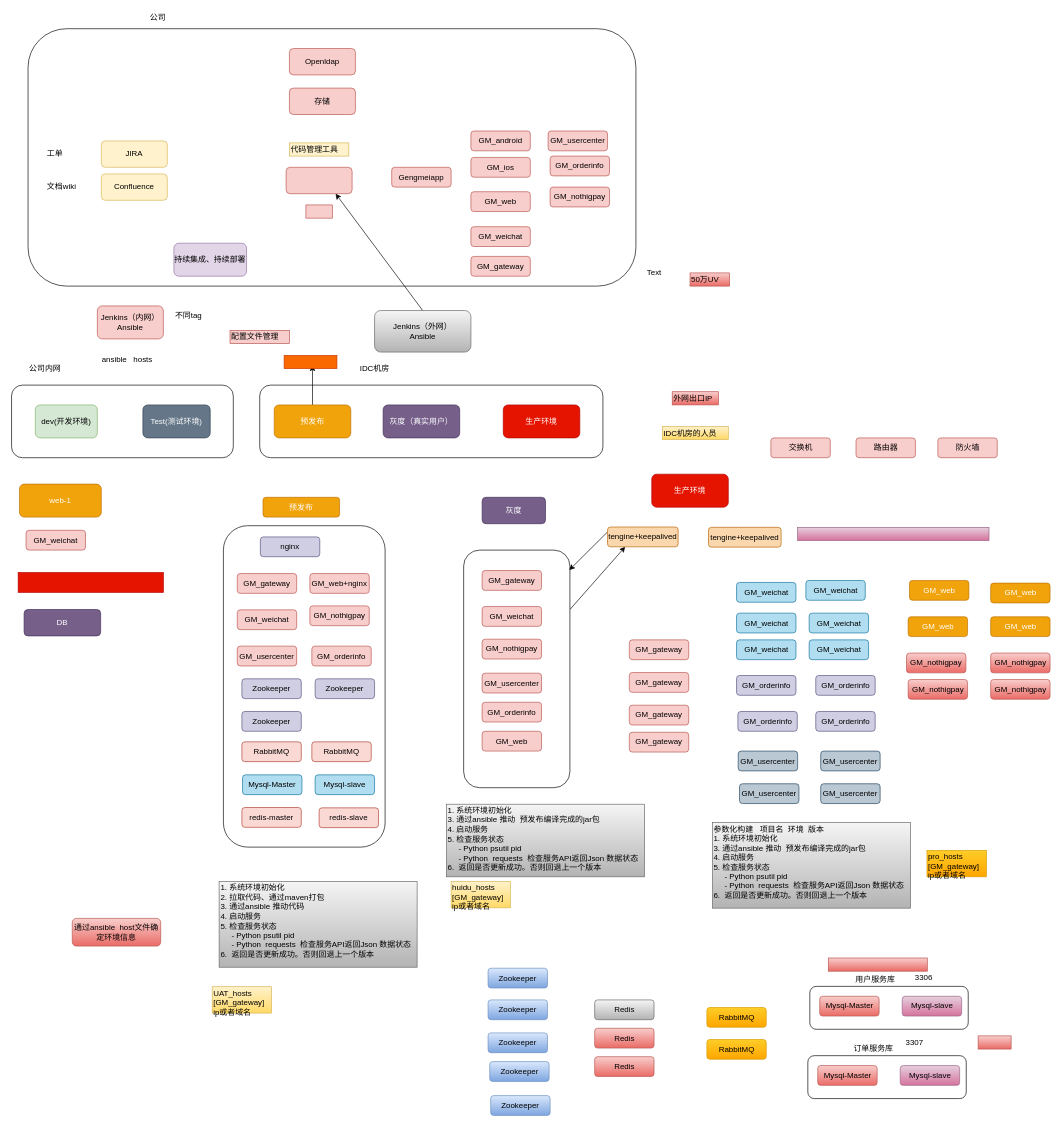
Image size: 1062x1127. Some labels were removed from this diagram. Each missing label, with the centre of its shape:
"32GB、8核、磁盘 raid10" belongs at point (877, 964).
"Gitlab" belongs at point (318, 180).
"Python requests 获取程序API接口数据 判断服务是否启动成功" belongs at point (90, 582).
"备份" belongs at point (318, 211).
"如何判断灰度用户来源 GeoIP 判断用户IP （深圳）" belongs at point (893, 534).
"物理机" belongs at point (994, 1042).
"预发布域名" belongs at point (310, 362).
